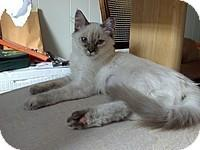siamese: (68, 9, 121, 61)
